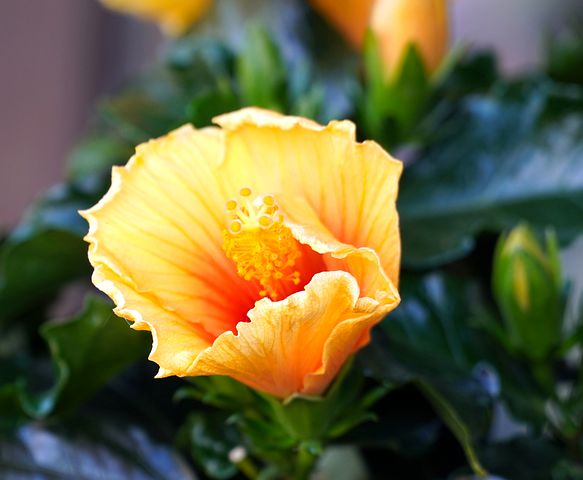Hibiscus: (90, 95, 414, 432), (327, 4, 496, 106), (473, 212, 575, 375)
